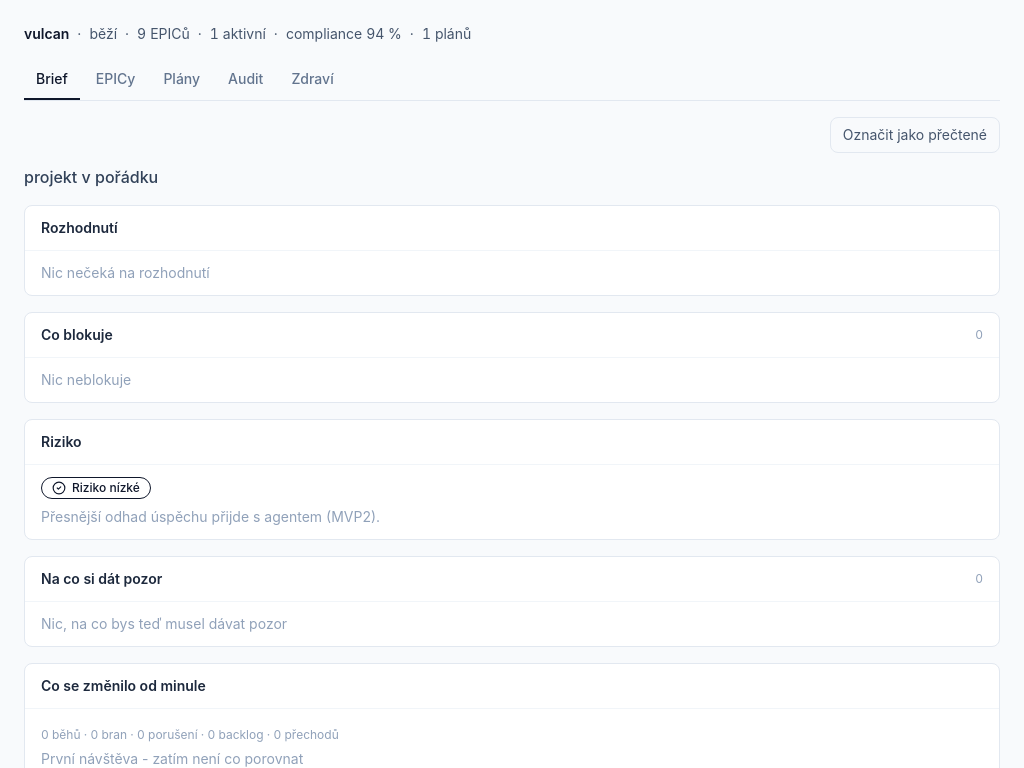
Test: ScreenB — project detail tab strip › shows the EPIC list on the EPICy tab and the health rail on Zdraví (nothing lost)
Click the tab "EPICy".
click(116, 80)  # box x1=84 y1=60 x2=147 y2=100
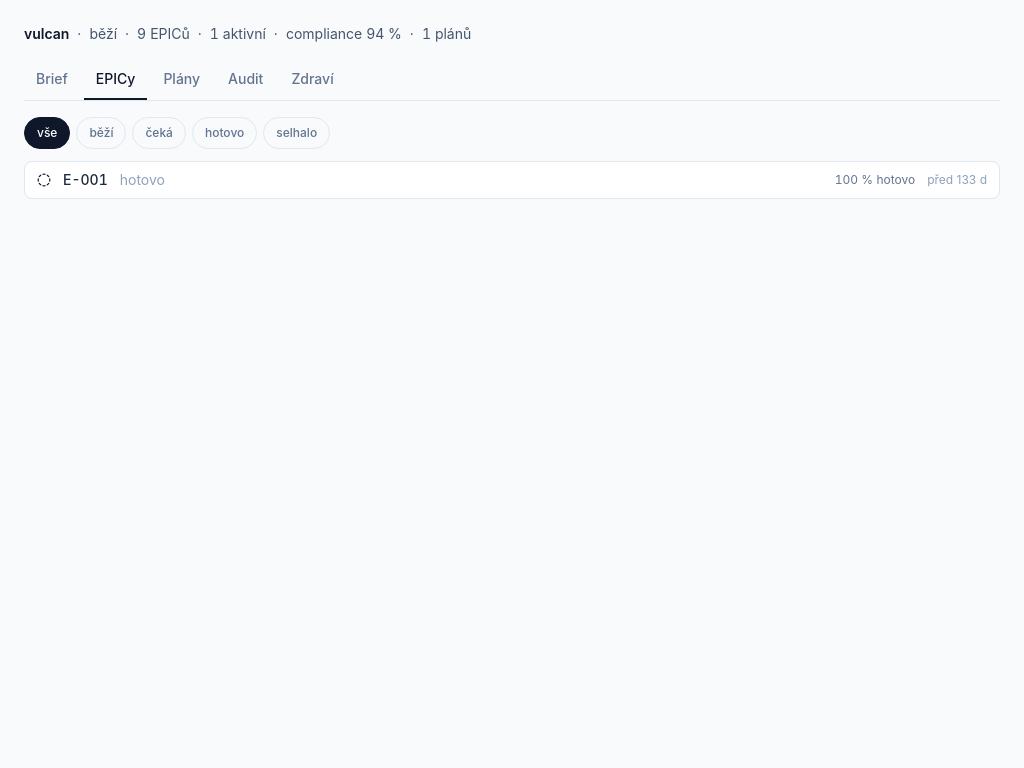
Check: the link "E-001 hotovo 100 % hotovo před 133 d" is shown, box x1=24 y1=161 x2=1000 y2=199
Click the tab "Zdraví".
click(313, 80)  # box x1=279 y1=60 x2=346 y2=100
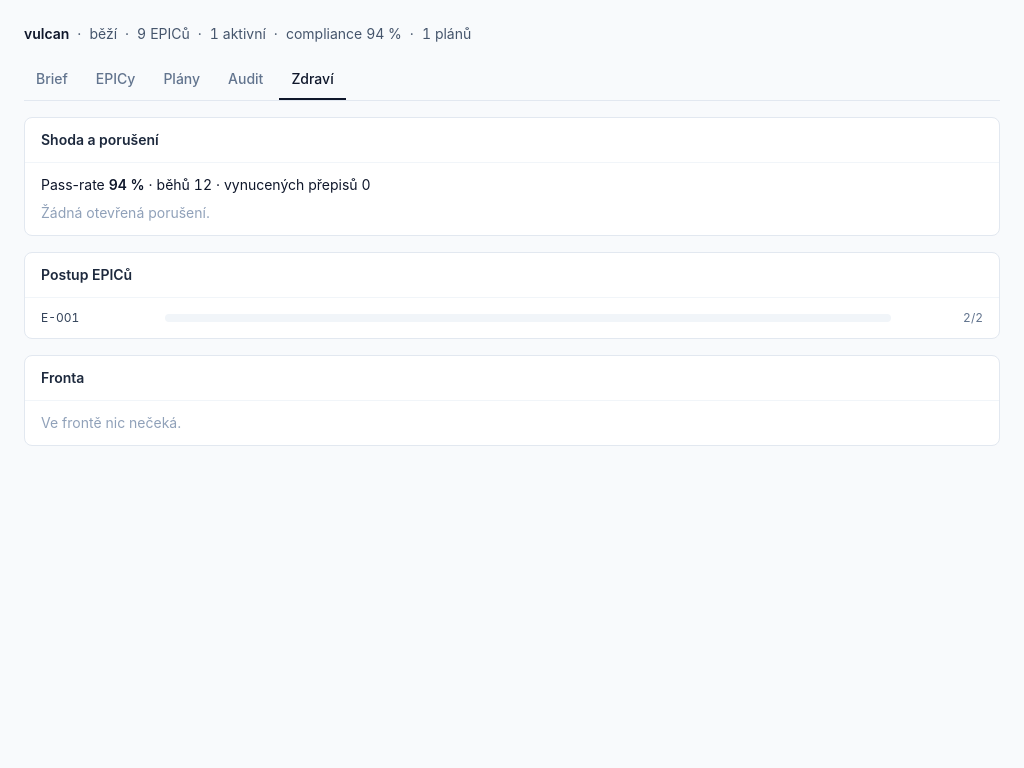
Check: the list is shown, box x1=41 y1=310 x2=983 y2=326
